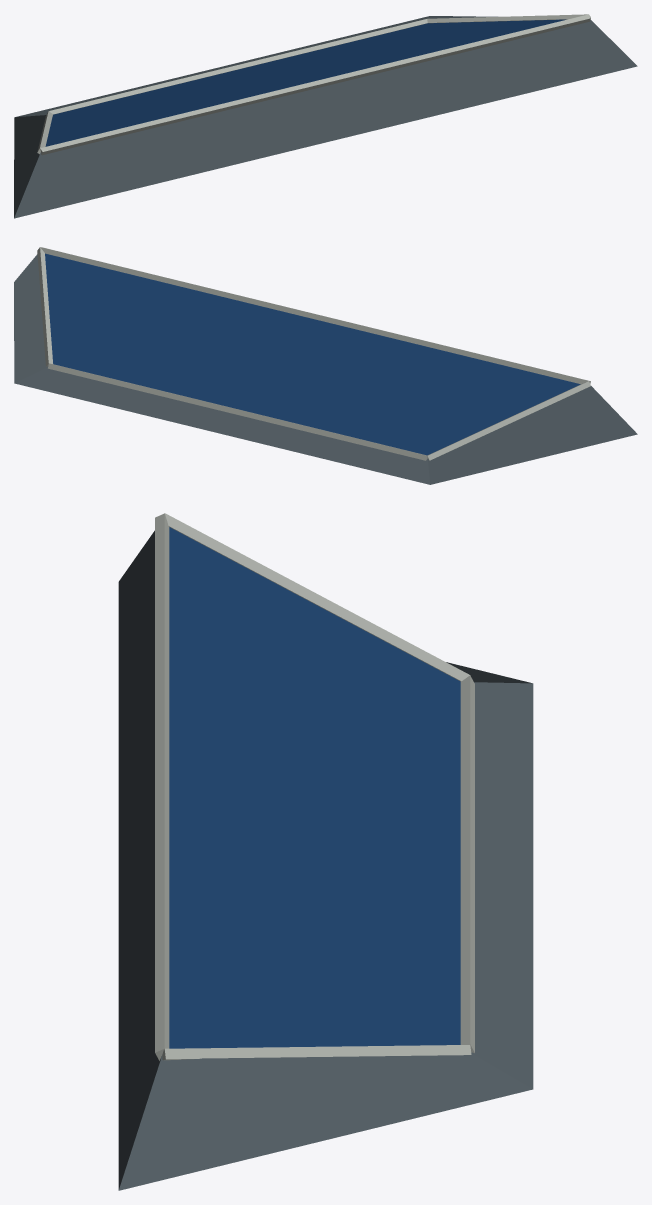
Rendered from bevel4.glb.
The picture shows the model from 3 angles, top to bottom: view 1: azimuth 30°, elevation 25°; view 2: azimuth 150°, elevation 25°; view 3: azimuth 270°, elevation 25°; orthographic projection. The views are drawn at different scales.
Visible parts, largest first — view 1: bevel4; view 2: bevel4; view 3: bevel4.
Part boxes in pixels (<box>): bevel4: <box>14,14,637,218</box>; bevel4: <box>14,247,637,484</box>; bevel4: <box>118,513,533,1190</box>.
Bounding box in the file's own units: 66 × 5.33 × 19.
